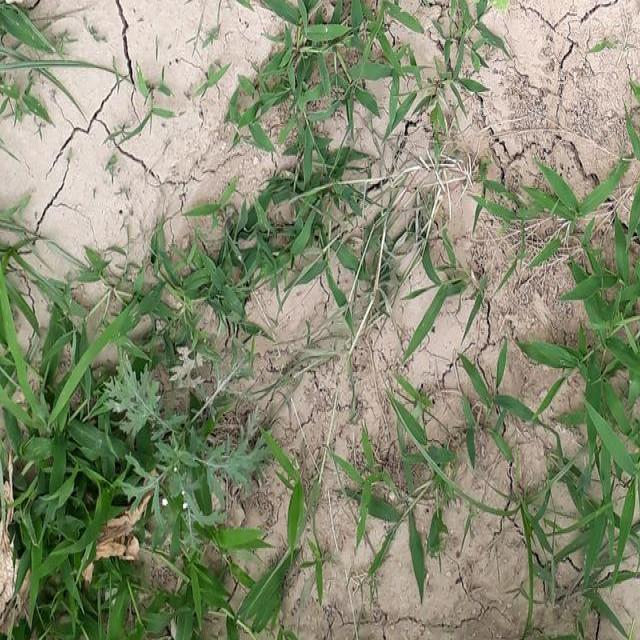weed: (5, 294, 236, 614), (528, 172, 640, 622), (225, 66, 352, 276), (335, 396, 451, 573), (267, 11, 408, 109), (470, 356, 538, 469), (394, 253, 446, 339)
